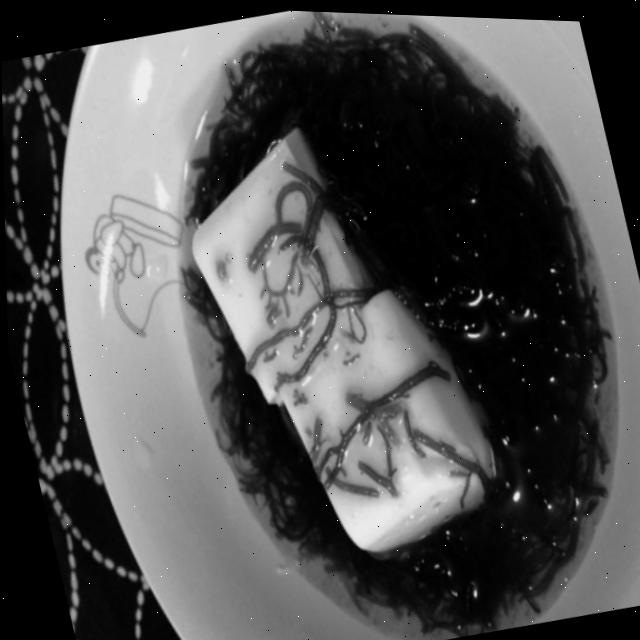蔬菜料理: (45, 1, 640, 640)
